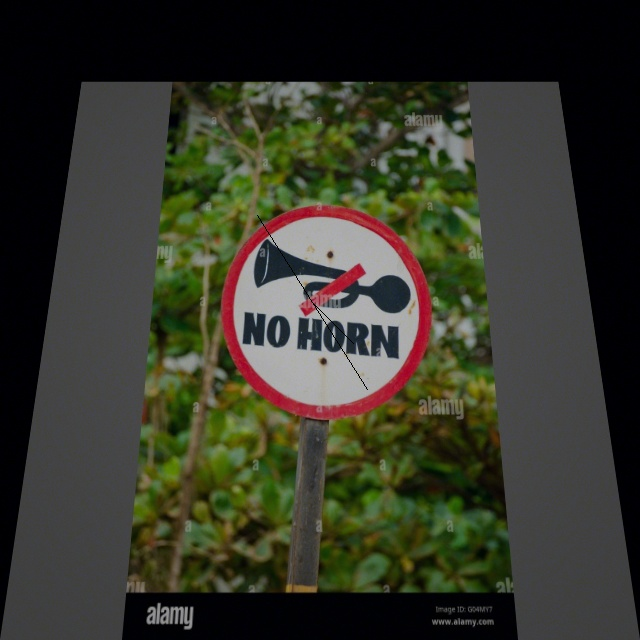Horn_Prohibited: (220, 202, 436, 422)
